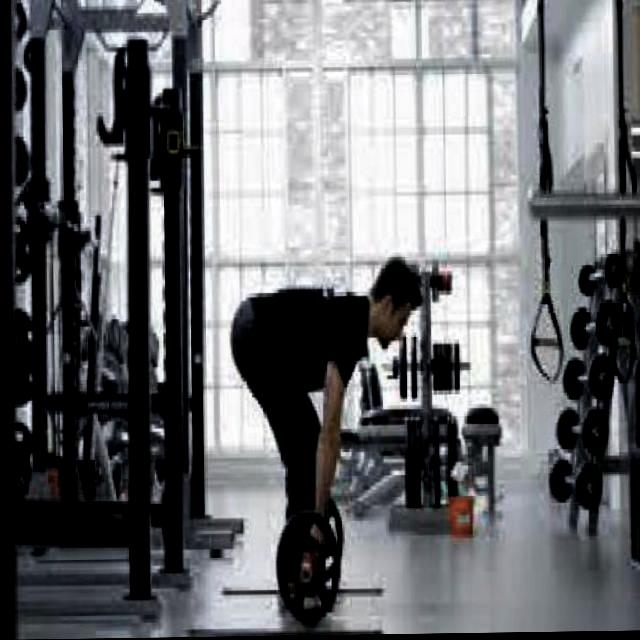barbell: (271, 505, 342, 632)
